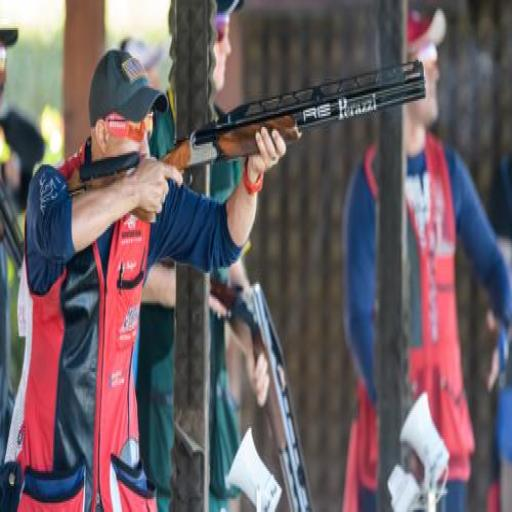shooting: (1, 45, 291, 510)
